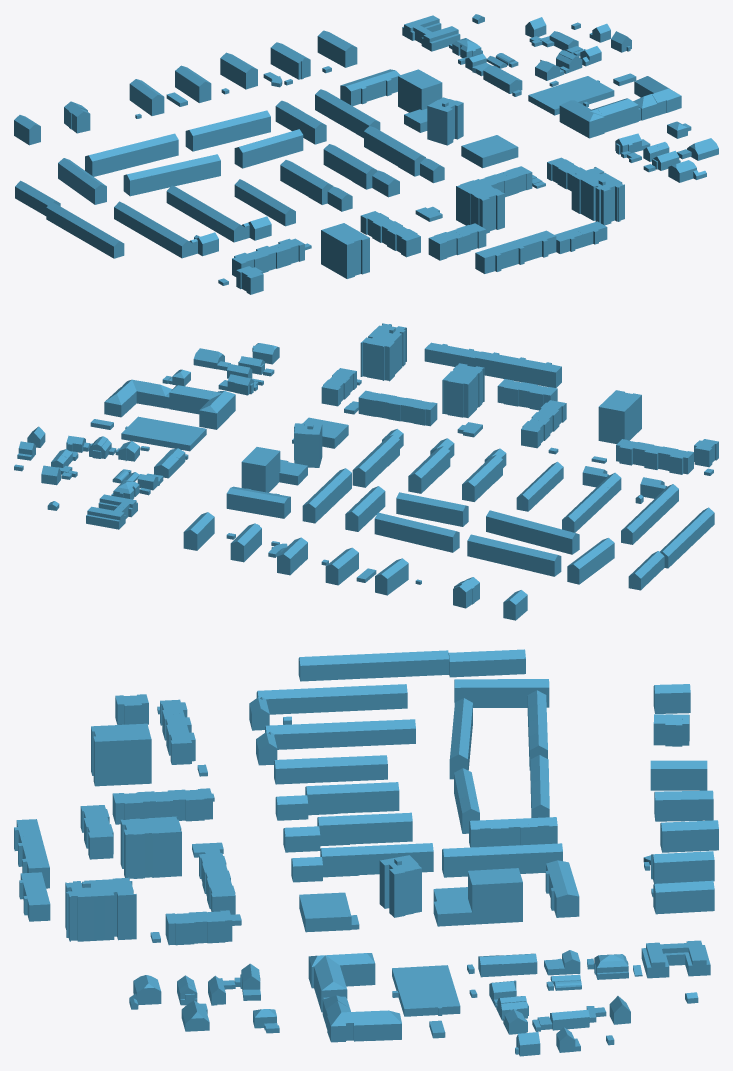
File: ev_carport.glb
3 views of the same model, one above another, from view 1: azimuth 30°, elevation 25°; view 2: azimuth 150°, elevation 25°; view 3: azimuth 270°, elevation 25° (orthographic). The views are drawn at different scales.
Visible parts, largest first — view 1: world; view 2: world; view 3: world.
Part boxes in pixels (x1=…): world: x1=14, y1=14, x2=718, y2=294; world: x1=14, y1=323, x2=718, y2=620; world: x1=14, y1=649, x2=718, y2=1056.
Size of the model in its own units: 492 by 30.08 by 375.
